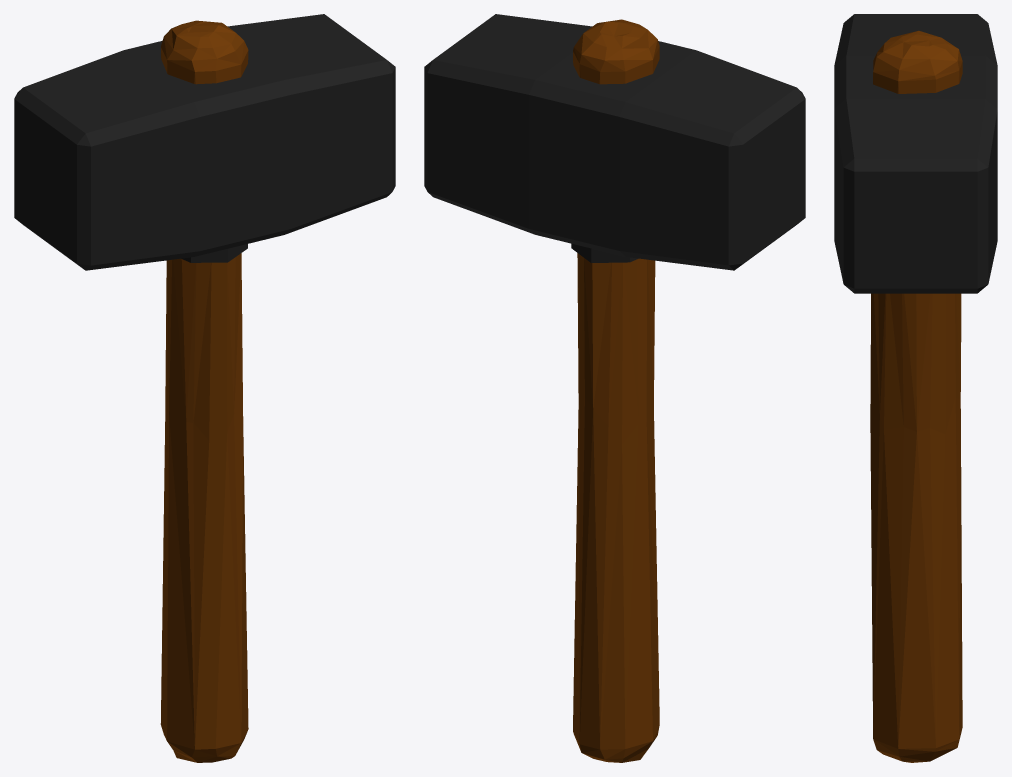
File: Hammer.fbx
3 renders of one model, left to right at view 1: azimuth 30°, elevation 25°; view 2: azimuth 150°, elevation 25°; view 3: azimuth 270°, elevation 25°, orthographic.
Visible parts, largest first — view 1: HammerHead, Shaft; view 2: HammerHead, Shaft; view 3: Shaft, HammerHead.
Boxes of the visible parts, x1,y1,x2,y2 form: HammerHead: (14, 14, 395, 270); Shaft: (160, 20, 248, 762); HammerHead: (424, 14, 805, 270); Shaft: (573, 19, 659, 762); Shaft: (870, 30, 962, 762); HammerHead: (834, 14, 997, 293).
Size of the model in its own units: 11.18 by 24.46 by 5.04.
